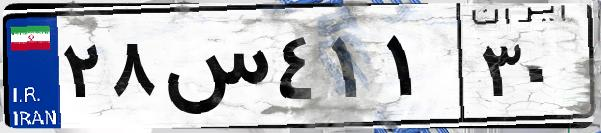0: (525, 38, 570, 115)
1: (385, 28, 445, 110), (330, 28, 385, 110)
2: (57, 26, 110, 100)
3: (475, 38, 525, 113)
4: (270, 28, 330, 110)
8: (110, 28, 158, 98)
س: (158, 20, 270, 120)
